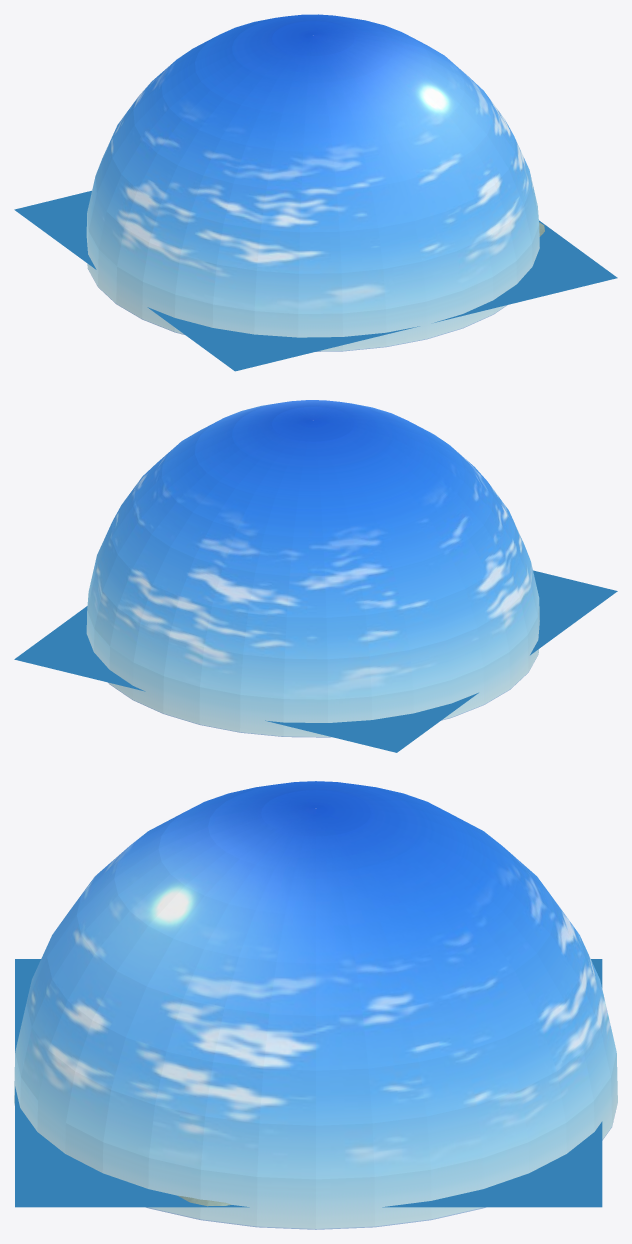
File: lugar-puntacana-ciudad.glb
3 views of the same model, one above another, from view 1: azimuth 30°, elevation 25°; view 2: azimuth 150°, elevation 25°; view 3: azimuth 270°, elevation 25° (orthographic). The views are drawn at different scales.
Parts seen in each view (by area): view 1: planoC; view 2: planoC; view 3: planoC.
Boxes of the visible parts, x1,y1,x2,y2 form: planoC: (14,14,617,371); planoC: (14,400,617,752); planoC: (14,781,617,1229).
Bounding box in the file's own units: 6584 × 3530 × 6584.
29 materials, 8 textured.
